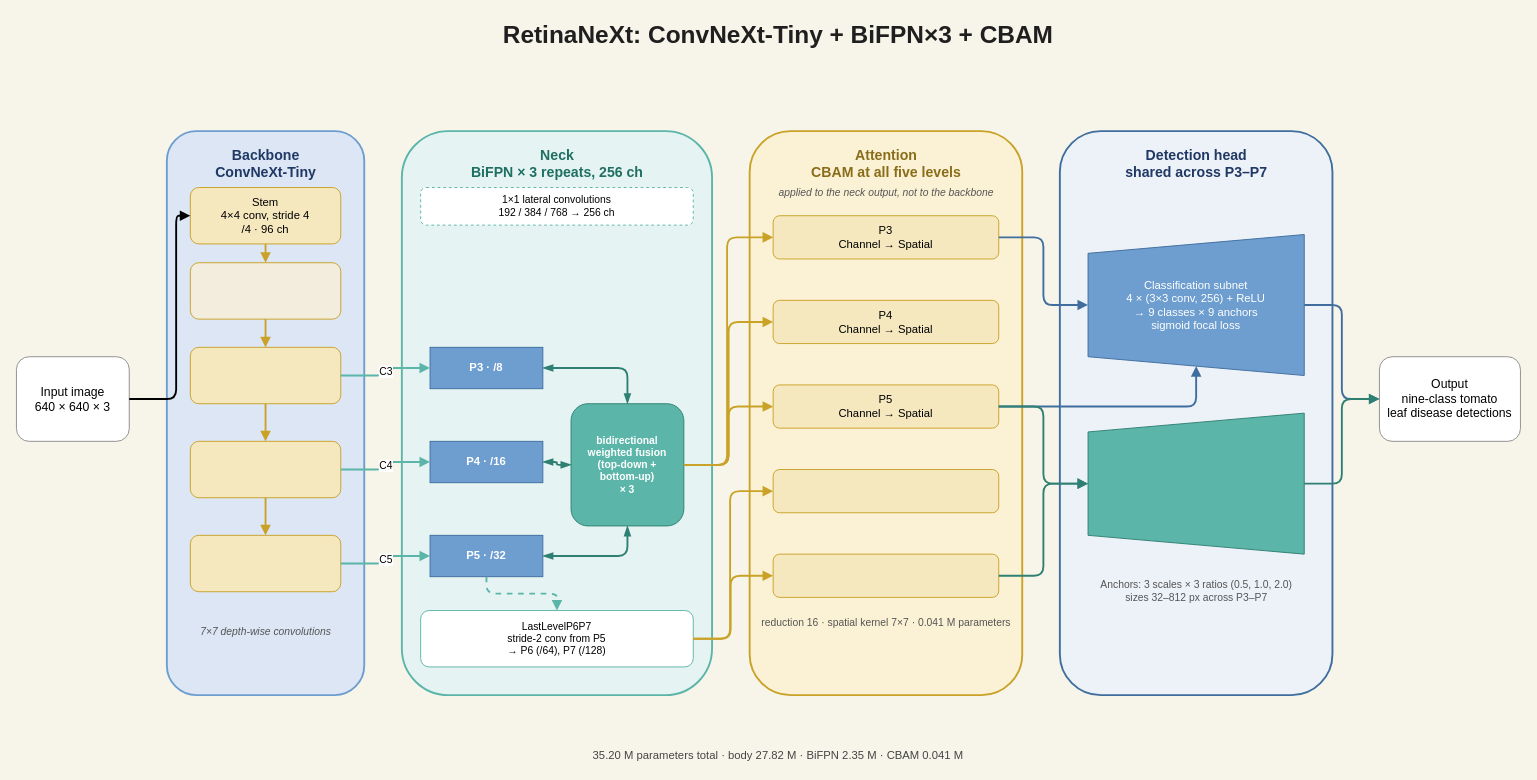
The diagram is 1537 pixels wide and 780 high, and some of its shapes have lost their labels. The centre of each missing label's shape, as x and y in pixels:
Box regression subnet 4 × (3×3 conv, 256) + ReLU → 4 offsets × 9 anchors: point (1195, 483)
P6 Channel → Spatial: point (885, 491)
P7 Channel → Spatial: point (885, 575)
Stage 1 · 3 blocks /4 · 96 ch (not used by the neck): point (265, 290)
Stage 2 · 3 blocks C3 · /8 · 192 ch: point (265, 375)
Stage 3 · 9 blocks C4 · /16 · 384 ch: point (265, 469)
Stage 4 · 3 blocks C5 · /32 · 768 ch: point (265, 563)
